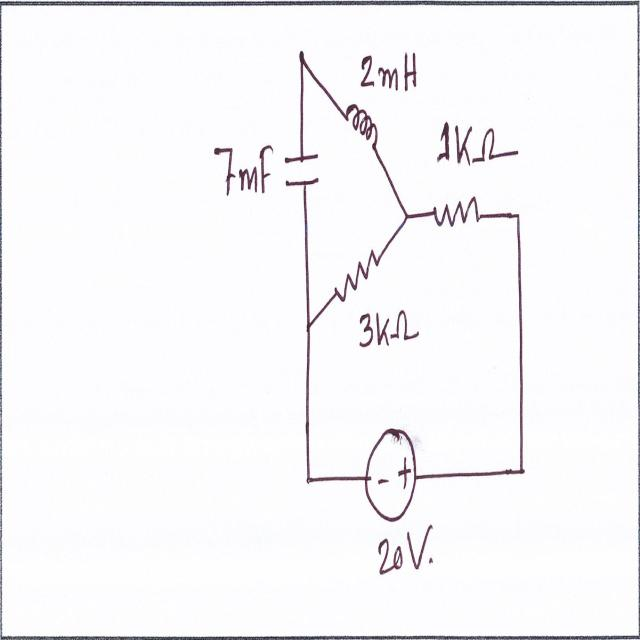capacitor: (280, 147, 326, 194)
inductor: (341, 94, 380, 156)
resistor: (332, 244, 382, 310), (427, 189, 483, 239)
voltage_source: (360, 419, 417, 531)
